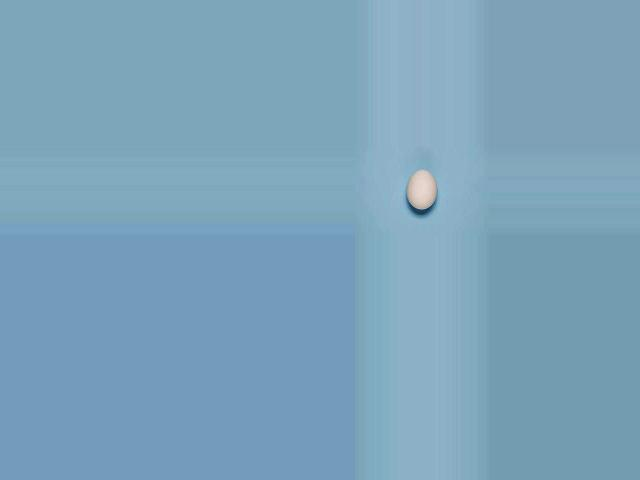egg: (406, 169, 436, 210)
